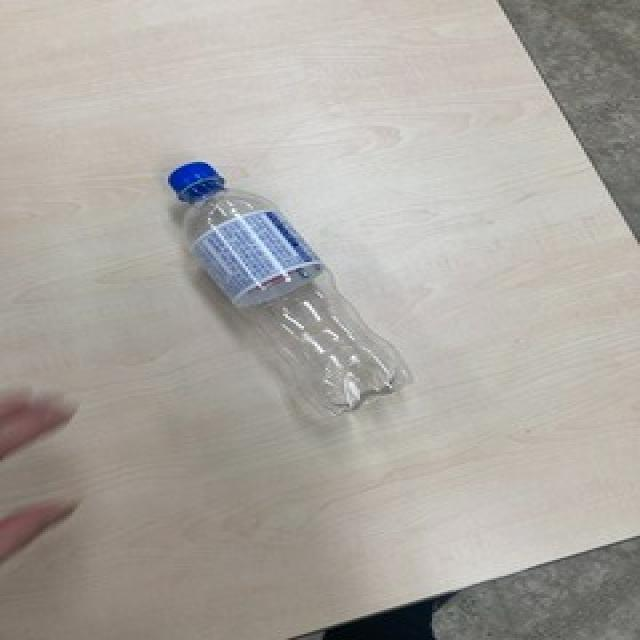good: (163, 152, 410, 430)
